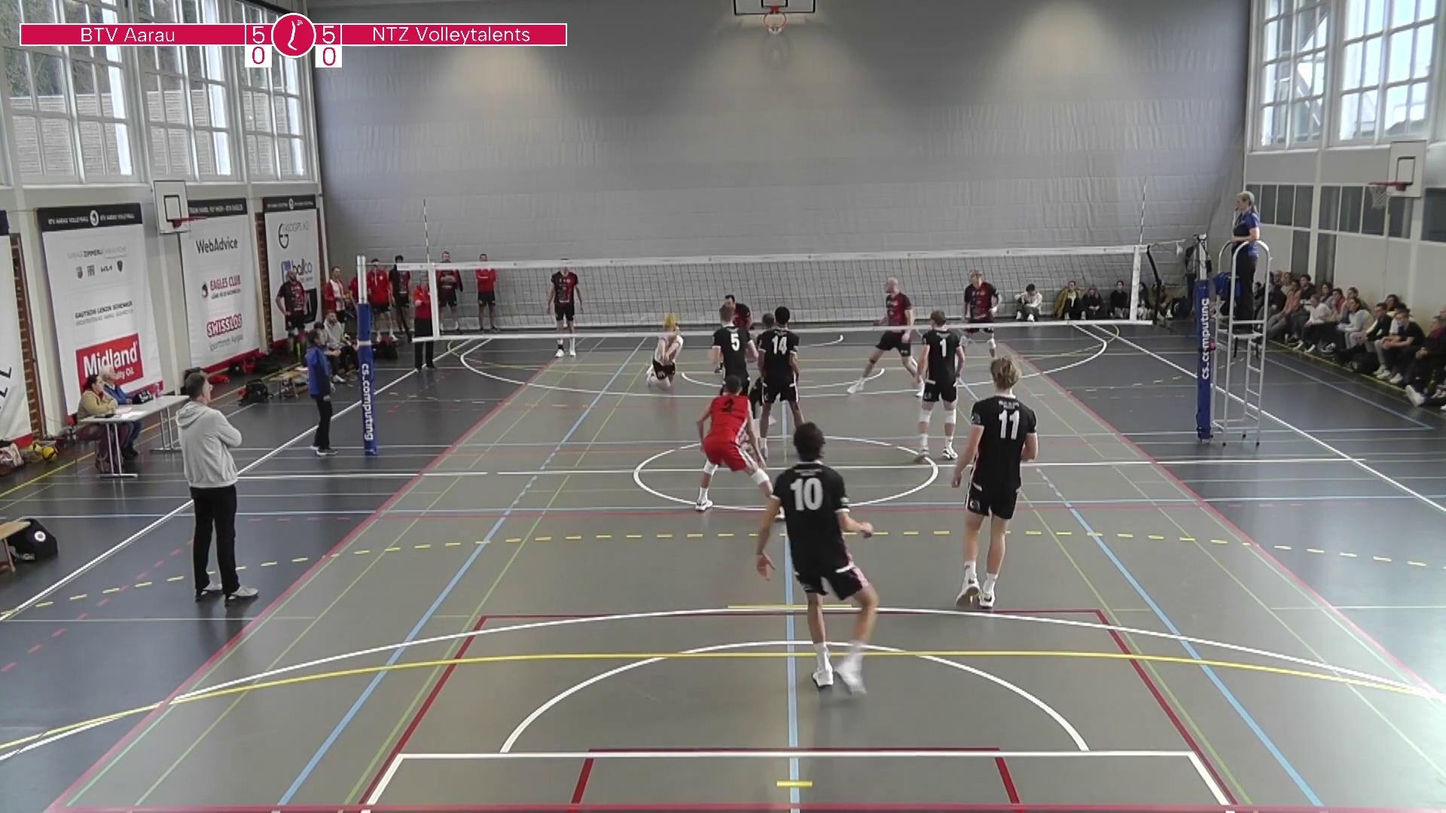Player: (755, 422, 877, 696), (950, 357, 1037, 609), (694, 376, 776, 513), (846, 278, 924, 397), (914, 310, 964, 462), (753, 306, 803, 455), (711, 306, 751, 391), (961, 269, 999, 358), (549, 253, 580, 357), (723, 292, 752, 337)
Receive: (645, 317, 685, 393)
ball: (664, 310, 682, 330)
